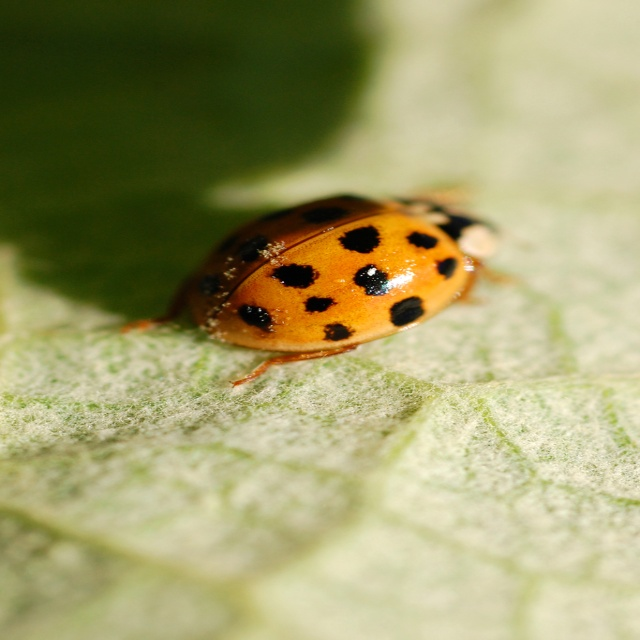Ladybug: (119, 191, 521, 388)
